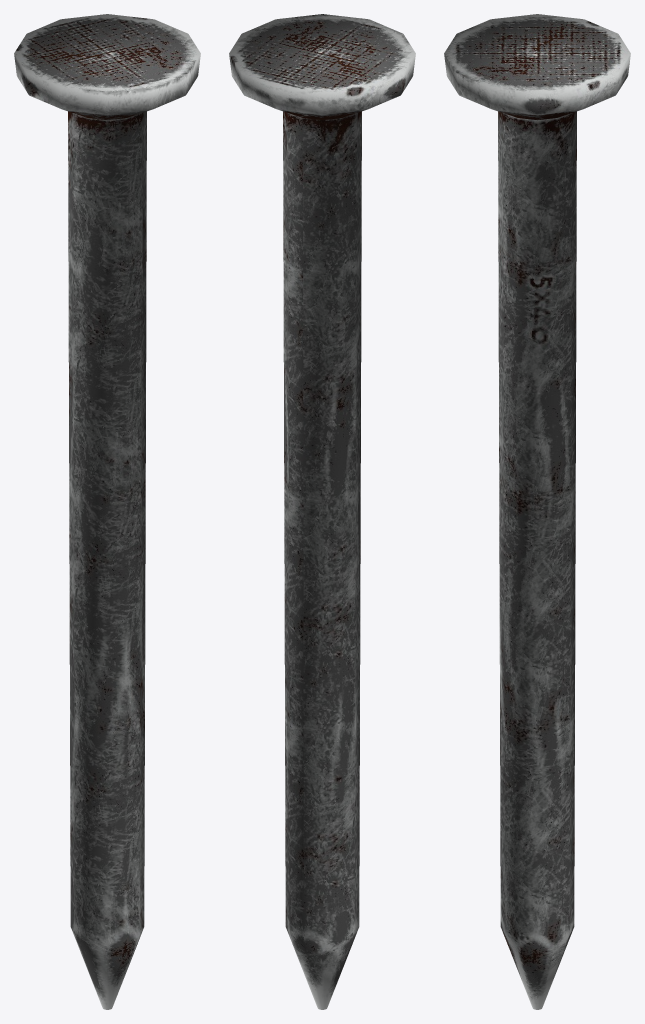
The picture shows the model from 3 angles, left to right: view 1: azimuth 30°, elevation 25°; view 2: azimuth 150°, elevation 25°; view 3: azimuth 270°, elevation 25°; orthographic projection.
Parts seen in each view (by area): view 1: Nail_Low_Cylinder.001; view 2: Nail_Low_Cylinder.001; view 3: Nail_Low_Cylinder.001.
Part boxes in pixels (bbox=[...]): Nail_Low_Cylinder.001: bbox=[14, 14, 200, 1009]; Nail_Low_Cylinder.001: bbox=[229, 14, 415, 1009]; Nail_Low_Cylinder.001: bbox=[444, 14, 630, 1009].
Bounding box in the file's own units: 0.0616 × 0.3474 × 0.0616.
1 material, 1 textured.
